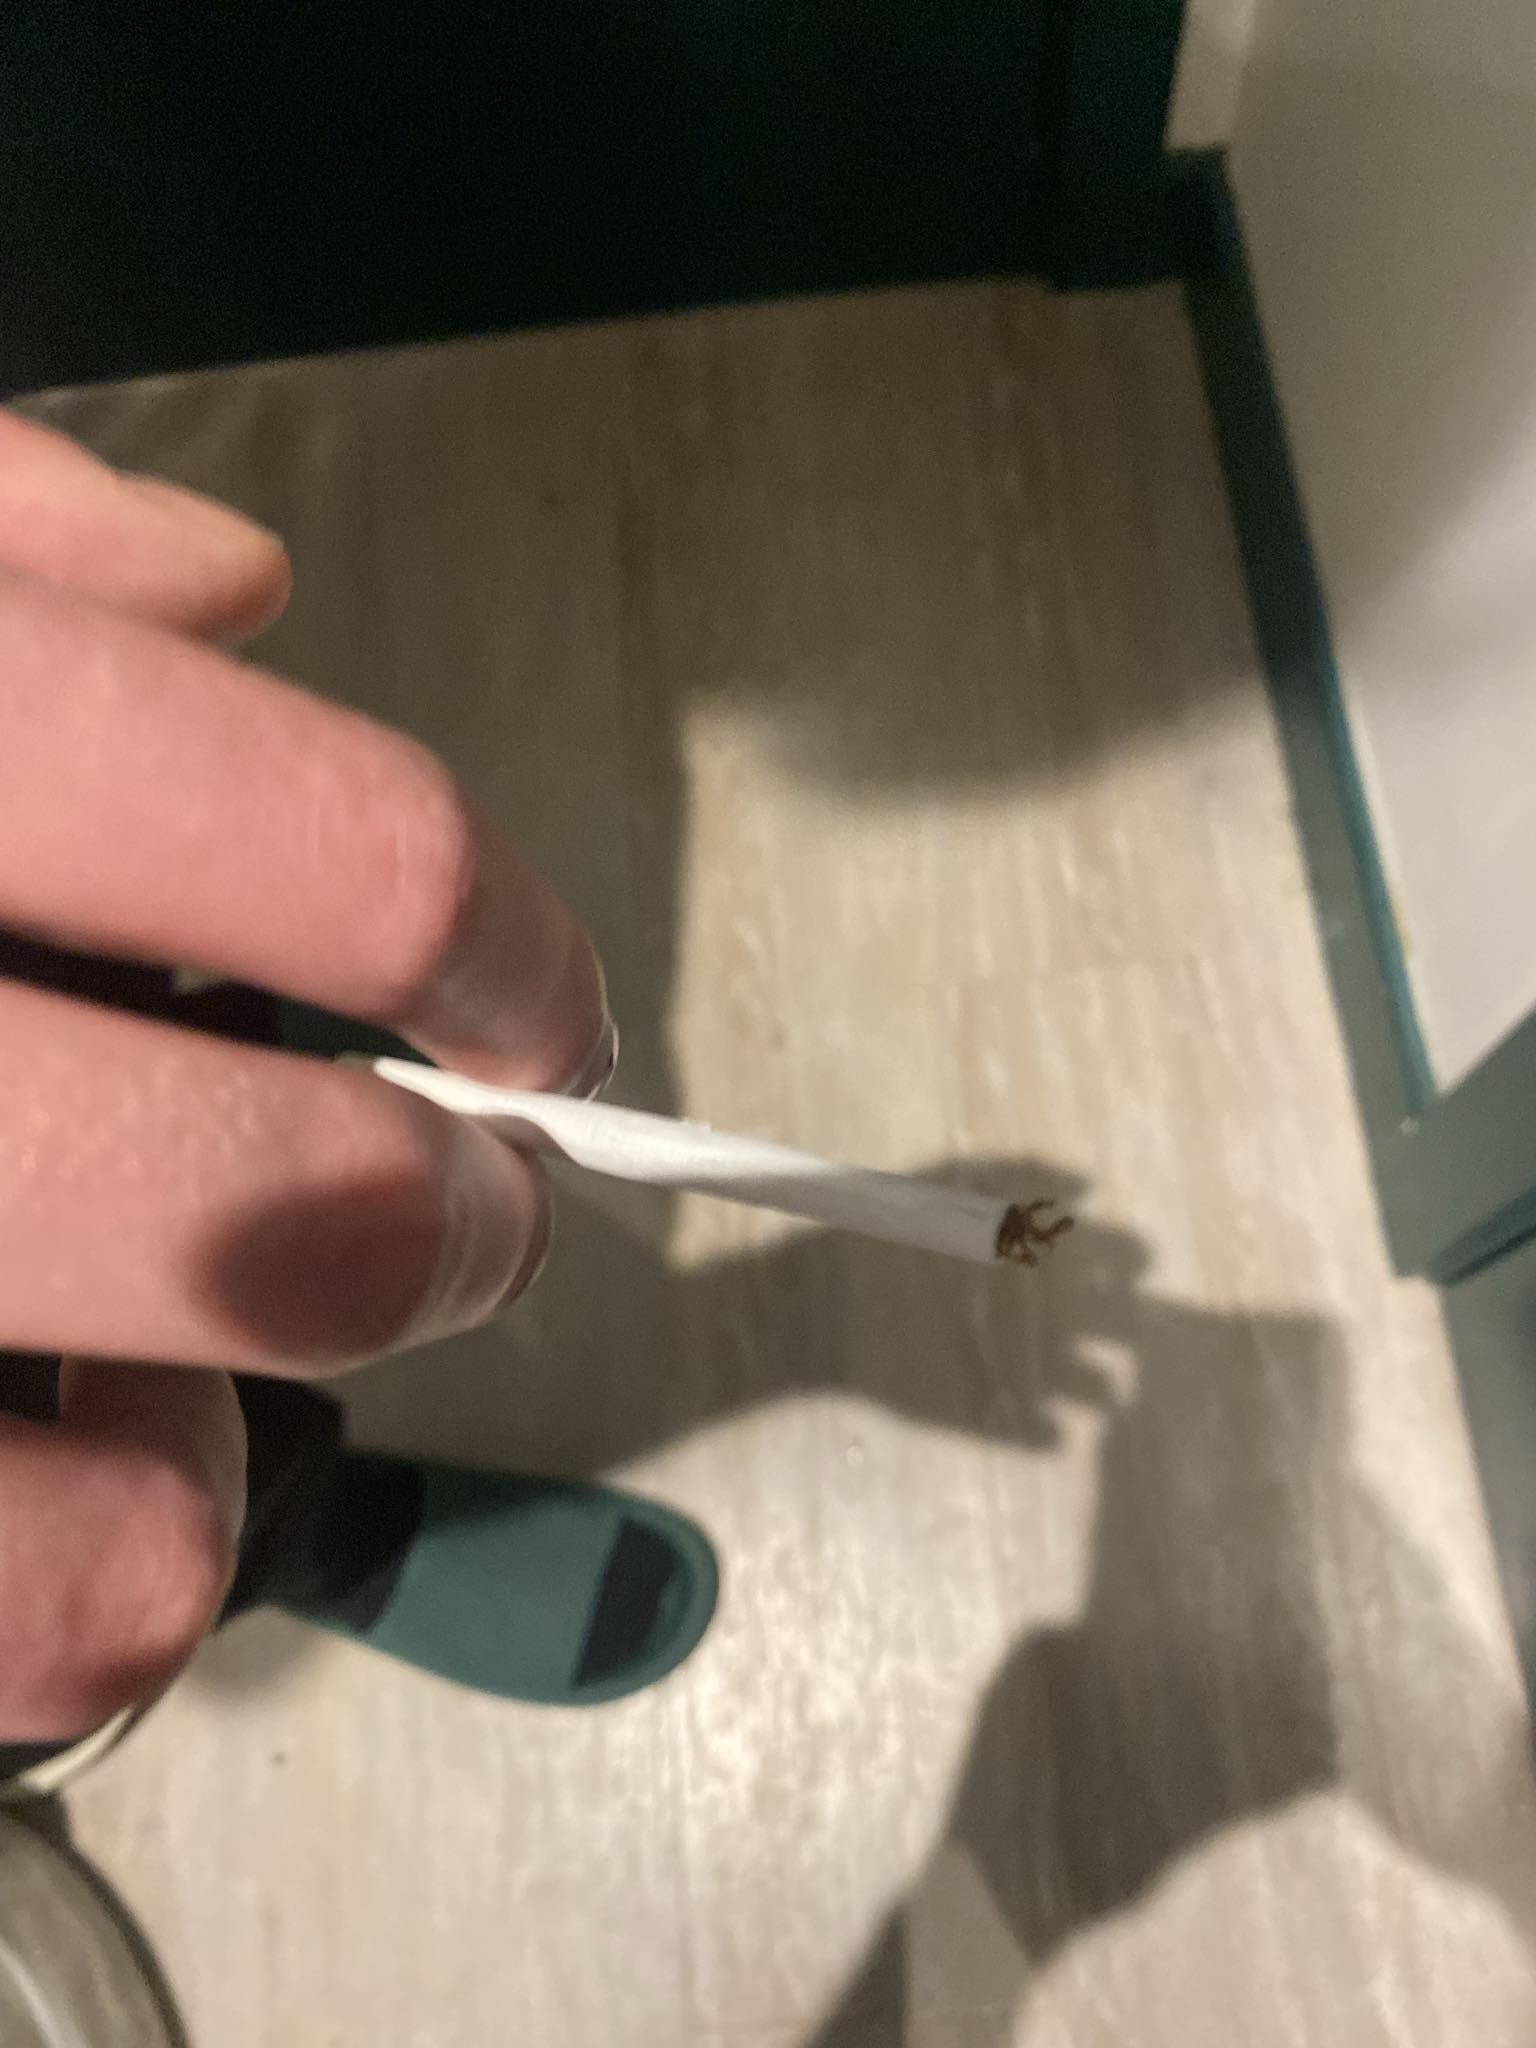Cigarette: (336, 1050, 1070, 1280)
